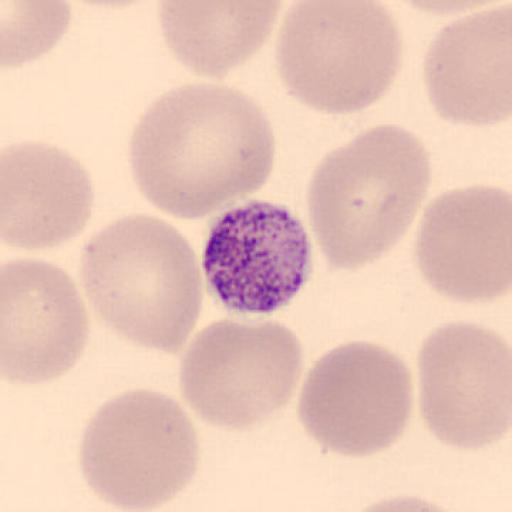Platelet: (199, 194, 316, 317)
RBC: (128, 80, 274, 220), (306, 123, 432, 271), (78, 212, 205, 352), (76, 385, 201, 512), (274, 0, 404, 117), (176, 318, 306, 432), (295, 338, 415, 460), (415, 318, 511, 452), (412, 182, 512, 306), (2, 257, 90, 388), (421, 5, 512, 128), (154, 1, 285, 81), (3, 139, 95, 252), (2, 0, 72, 69), (341, 493, 469, 512), (384, 0, 502, 18), (67, 0, 158, 10)
